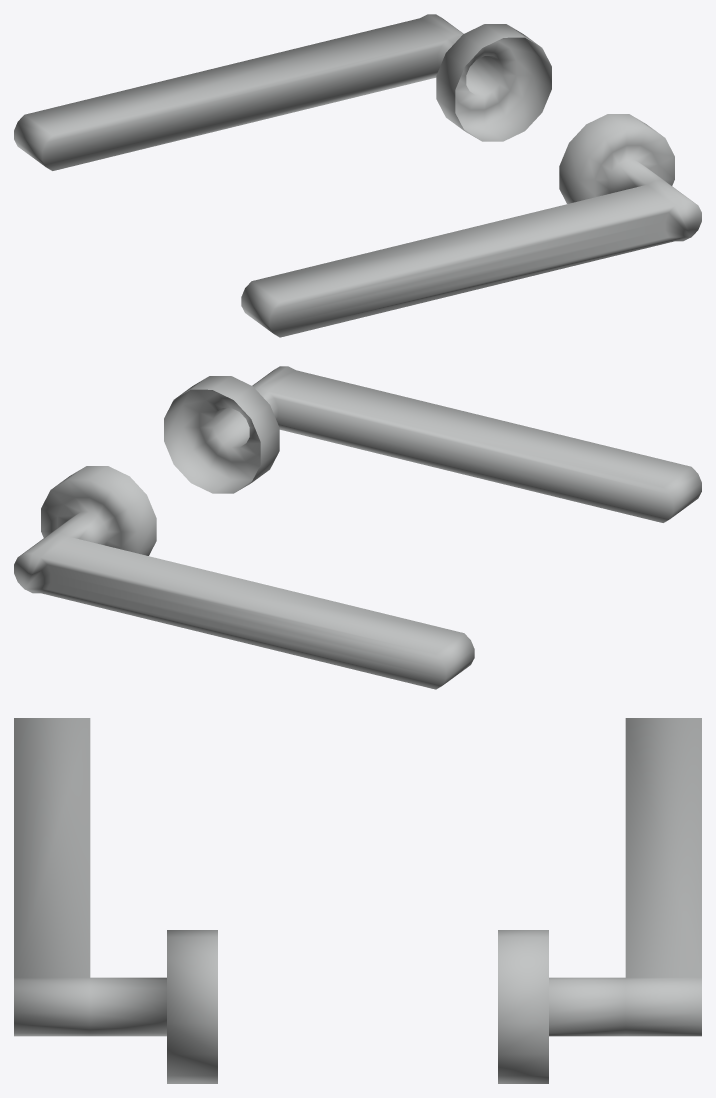
Rendered from DoorHandle.fbx.
3 renders of one model, top to bottom at view 1: azimuth 30°, elevation 25°; view 2: azimuth 150°, elevation 25°; view 3: azimuth 270°, elevation 25°, orthographic. The views are drawn at different scales.
Parts seen in each view (by area): view 1: Door_Handle; view 2: Door_Handle; view 3: Door_Handle.
Boxes of the visible parts, x1=… form: Door_Handle: x1=14, y1=14, x2=701, y2=337; Door_Handle: x1=14, y1=366, x2=701, y2=689; Door_Handle: x1=14, y1=718, x2=701, y2=1083.
Bounding box in the file's own units: 14.07 × 3.02 × 13.49.
1 material, 1 textured.
